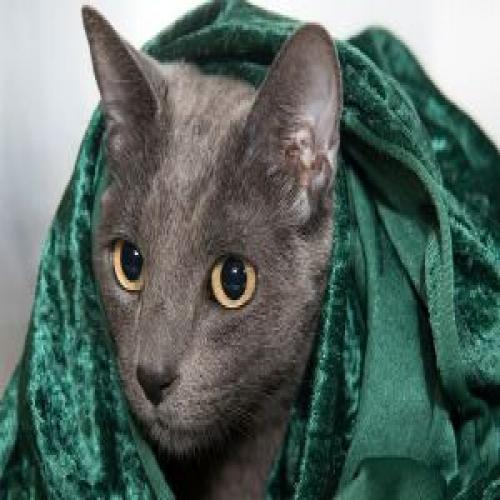rblue: (61, 1, 361, 471)
